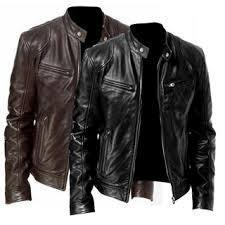jacket: (73, 22, 214, 212), (4, 6, 123, 202)
